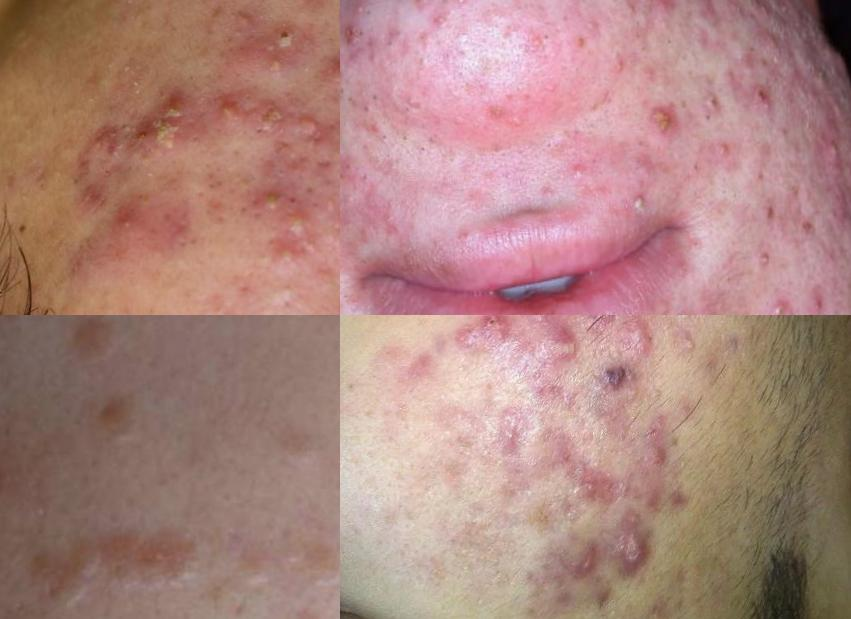blackhead: (375, 24, 419, 58), (445, 22, 487, 52), (362, 86, 392, 112), (352, 101, 381, 122), (341, 83, 360, 111), (414, 140, 435, 159), (394, 126, 412, 148), (373, 130, 391, 147), (487, 1, 508, 5)
cystic: (652, 31, 681, 54)
flat_wart: (1, 438, 109, 604), (225, 514, 341, 594), (75, 525, 209, 583), (84, 385, 164, 450), (285, 415, 329, 505), (73, 318, 134, 371)
keloid: (793, 32, 844, 94), (713, 1, 790, 40)
papular: (94, 195, 154, 251), (477, 90, 536, 139), (515, 21, 565, 64), (341, 157, 374, 200), (687, 89, 726, 119), (639, 1, 681, 23), (576, 13, 609, 40), (341, 25, 365, 60), (605, 52, 636, 79), (345, 1, 376, 27), (614, 1, 645, 27), (327, 45, 341, 90)
purulent: (621, 167, 662, 226), (641, 101, 684, 144), (673, 317, 715, 361), (704, 135, 741, 164), (815, 131, 847, 164), (557, 157, 591, 184), (763, 297, 802, 316), (269, 243, 297, 267), (262, 53, 285, 82), (254, 182, 280, 207), (521, 316, 553, 335), (287, 200, 304, 234), (406, 1, 440, 14), (442, 1, 476, 13)
sebo-crystan-conglo: (129, 88, 201, 165), (606, 496, 663, 583), (222, 89, 300, 131), (440, 316, 512, 352), (585, 362, 643, 405), (532, 330, 578, 372)
whitehead: (390, 72, 444, 125), (754, 244, 776, 277)
